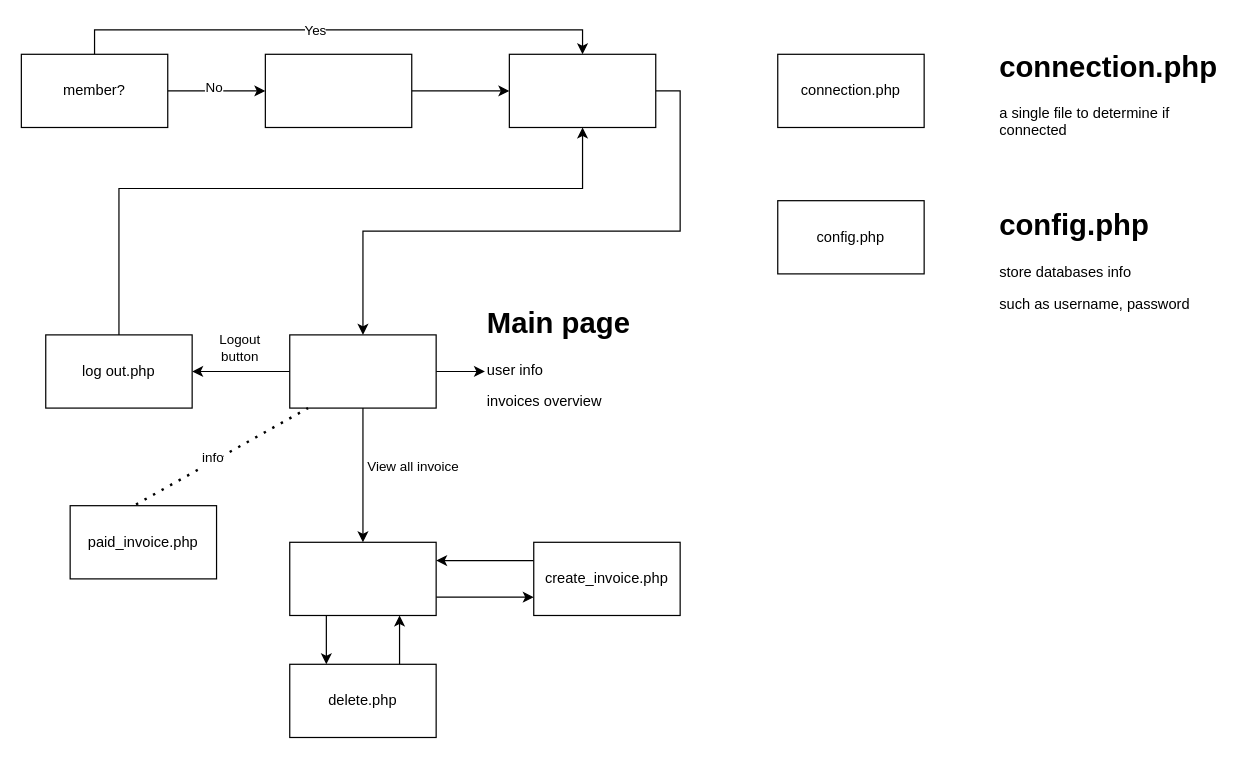
Image size: 1238x759. Some labels were removed from this diagram. Here are the shapes that lost their labels. From the top down, the box of each, then its label:
(264, 53, 412, 127): register.php
(508, 53, 656, 127): login.php
(289, 334, 436, 408): index.php
(289, 541, 436, 615): invoice.php
